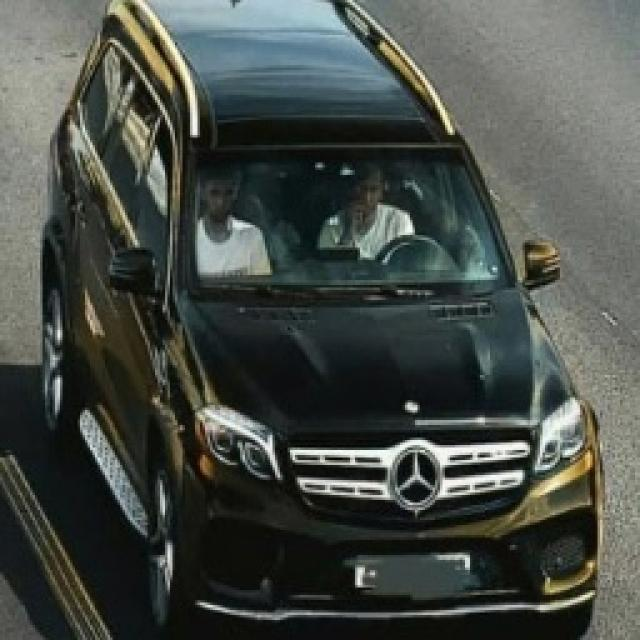windshield: (165, 127, 519, 307)
